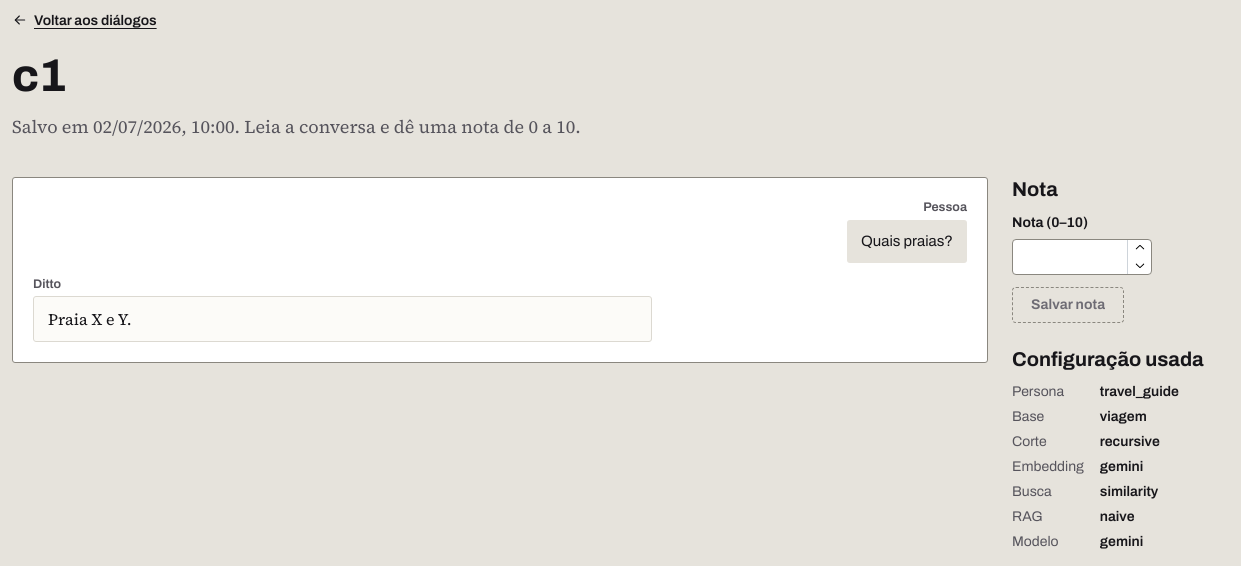
Test: DialoguePage › saves a rating
Check: the text "Quais praias?" is shown, box [847, 220, 967, 262]
In the field labelled "Nota (0–10)": {"x": 1082, "y": 257} [1012, 239, 1152, 275], type "8"
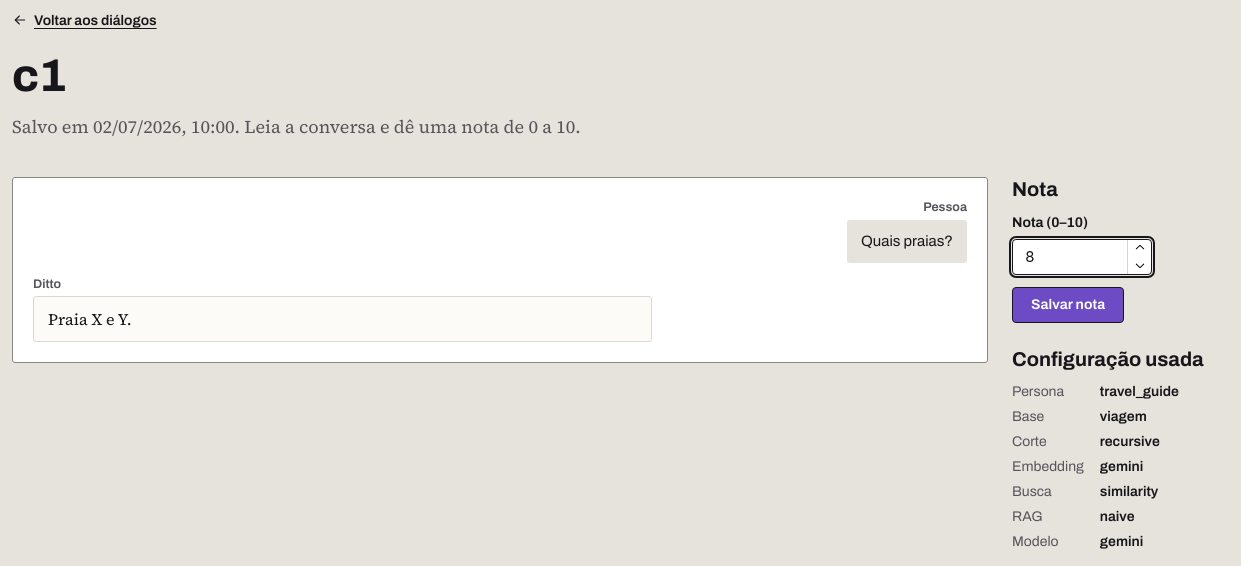
Click the button "Salvar nota": {"x": 1068, "y": 305} [1012, 287, 1124, 323]
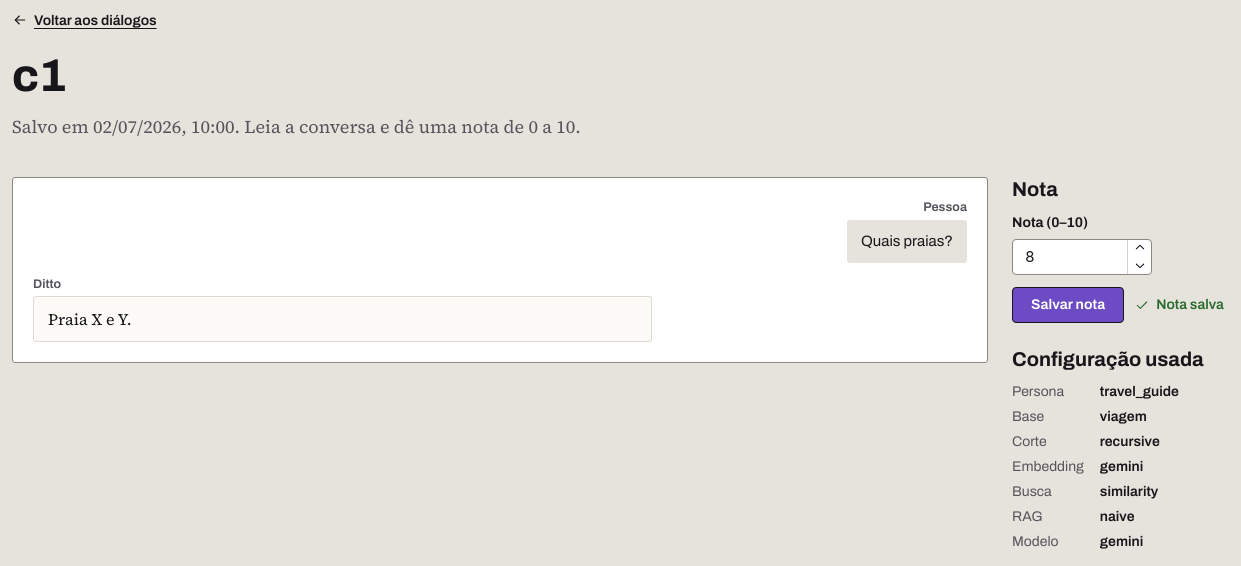
Check: the text "Nota salva" is shown, box [1134, 294, 1224, 316]
